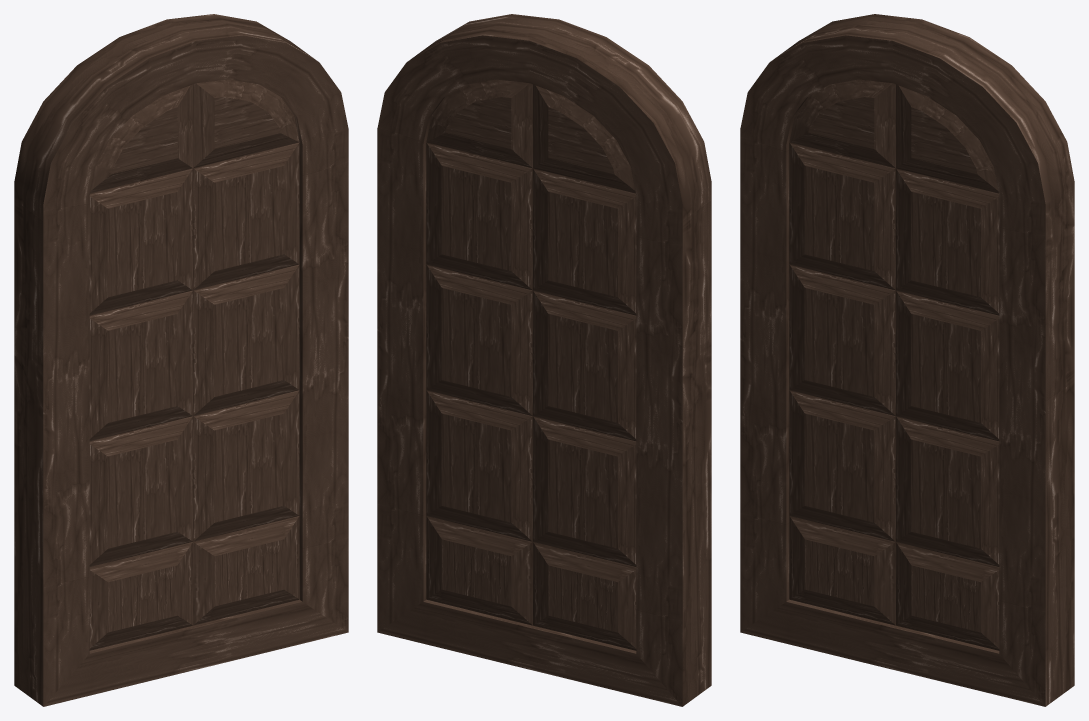
Rendered from HeistWooden_MechaDoor.fbx.
3 renders of one model, left to right at view 1: azimuth 30°, elevation 25°; view 2: azimuth 150°, elevation 25°; view 3: azimuth 330°, elevation 25°, orthographic.
Parts seen in each view (by area): view 1: HeistWooden_MechaDoor; view 2: HeistWooden_MechaDoor; view 3: HeistWooden_MechaDoor.
Boxes of the visible parts, x1,y1,x2,y2 form: HeistWooden_MechaDoor: (14, 14, 348, 706); HeistWooden_MechaDoor: (377, 14, 711, 706); HeistWooden_MechaDoor: (740, 14, 1074, 706).
Bounding box in the file's own units: 3.39 × 6.67 × 0.5621.
